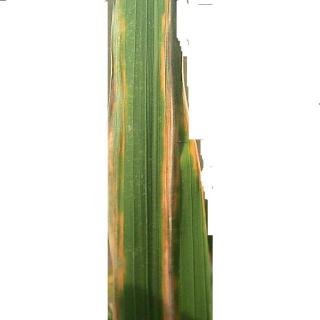Hawar-Daun: (148, 0, 204, 320), (92, 0, 135, 320)
